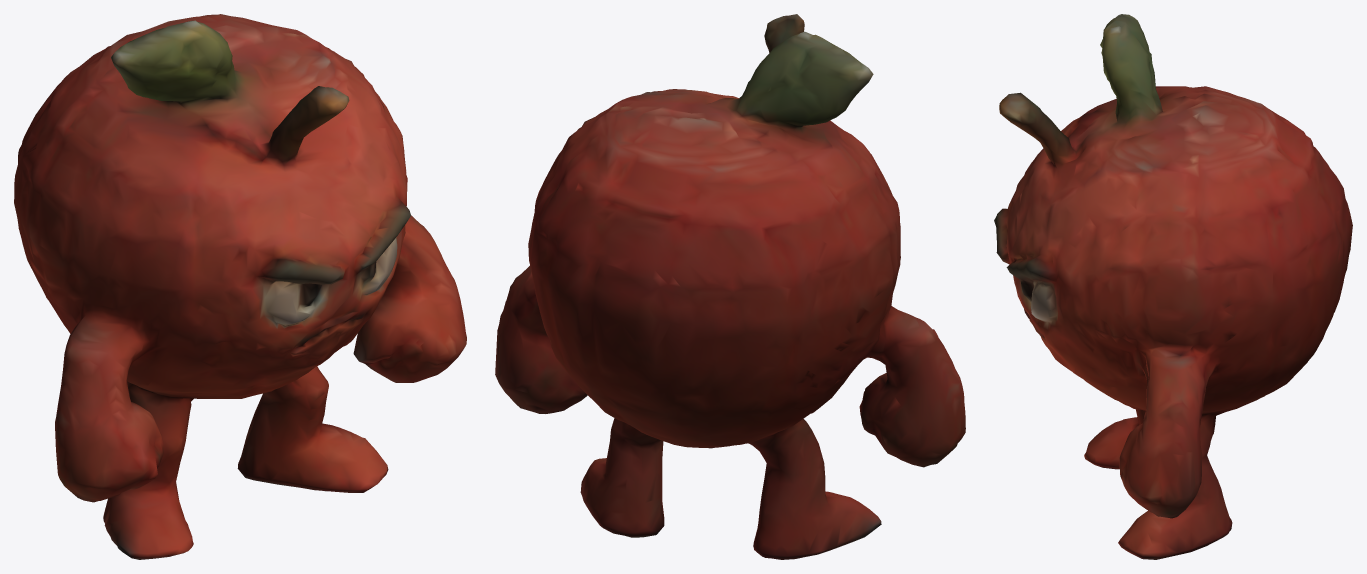
Rendered from apple.glb.
3 renders of one model, left to right at view 1: azimuth 30°, elevation 25°; view 2: azimuth 150°, elevation 25°; view 3: azimuth 270°, elevation 25°, orthographic. The views are drawn at different scales.
Visible parts, largest first — view 1: apple; view 2: apple; view 3: apple.
Part boxes in pixels (x1=…): apple: x1=14, y1=14, x2=466, y2=559; apple: x1=495, y1=14, x2=965, y2=559; apple: x1=994, y1=14, x2=1352, y2=559.
Bounding box in the file's own units: 1.07 × 1.2 × 0.8695.
